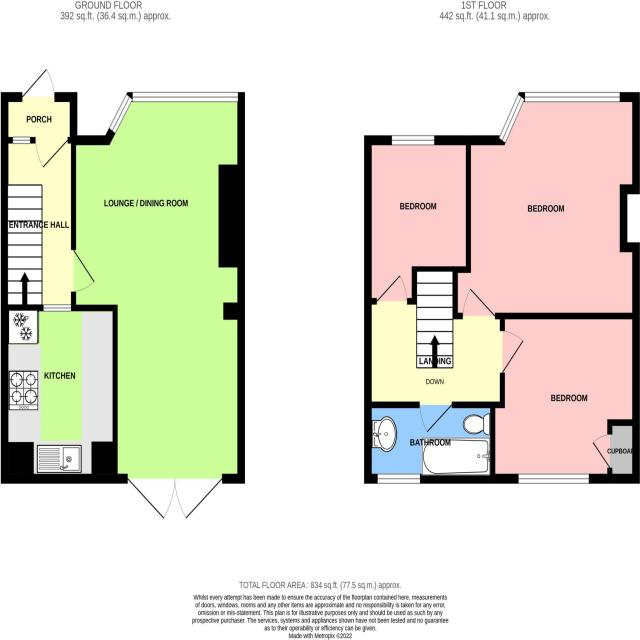DOOR: (70, 248, 96, 293), (499, 330, 525, 374), (462, 287, 496, 320), (34, 137, 69, 169), (419, 401, 453, 433), (376, 274, 408, 305)
DOUBLE DOOR: (124, 474, 229, 521)
ROOM: (70, 92, 245, 521), (452, 91, 640, 320), (490, 312, 640, 484), (0, 304, 118, 484), (364, 135, 471, 305)
WINDOW: (497, 91, 620, 144), (108, 91, 239, 135), (518, 473, 589, 484), (391, 134, 435, 146), (377, 473, 421, 484), (43, 304, 72, 312), (12, 136, 31, 145)
